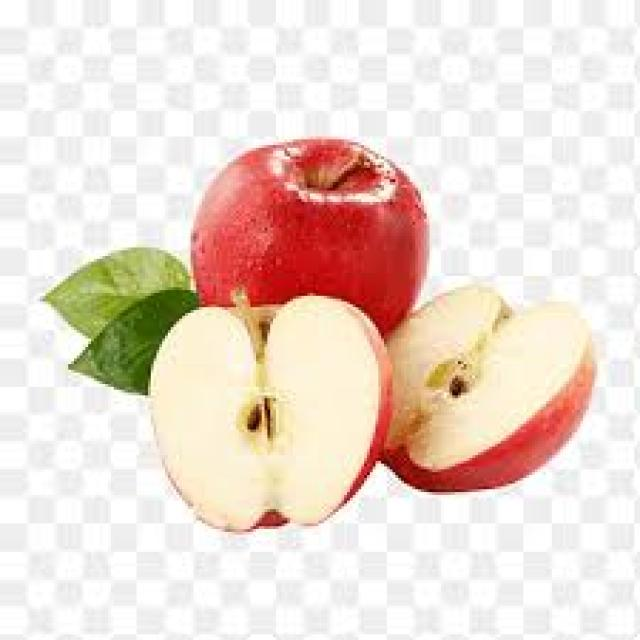apple: (190, 132, 432, 328)
